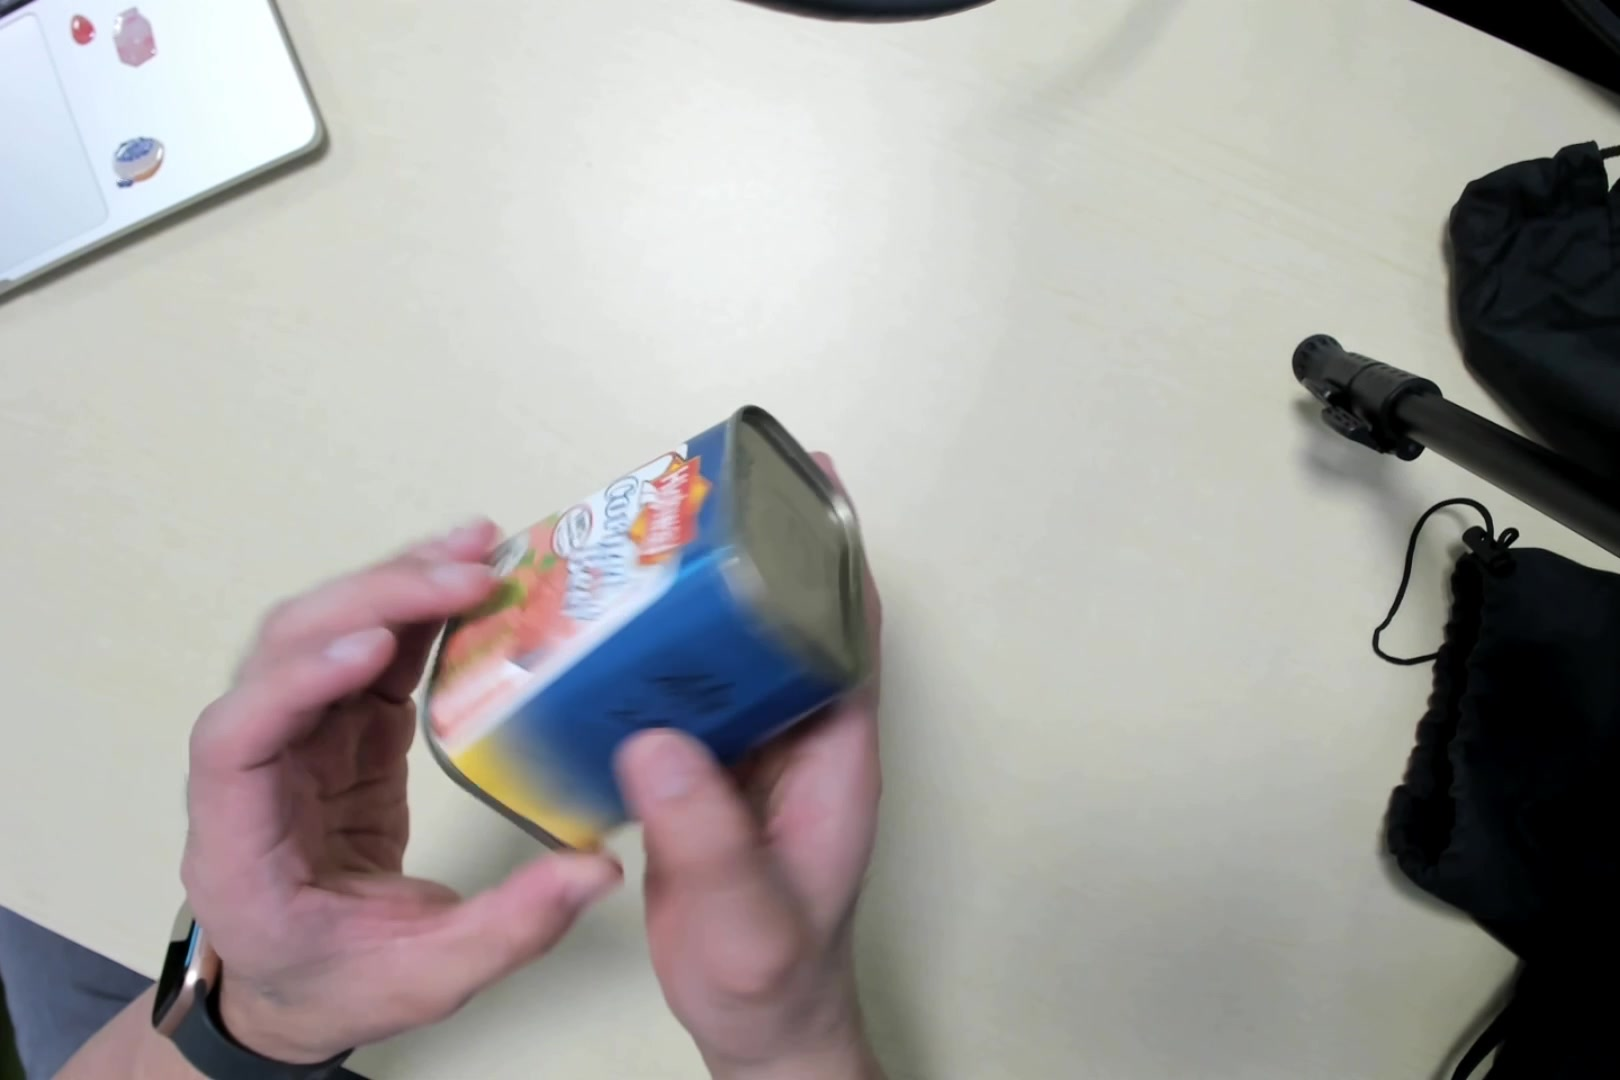CannedBeefOtherMeats_300-399g_Halal_NonHealthy: (438, 416, 865, 838)
